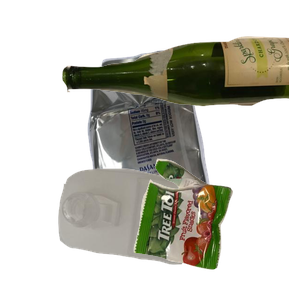glass: (60, 34, 300, 133)
metal: (85, 48, 300, 228)
plastic: (56, 166, 241, 300)
trash: (131, 156, 300, 300)
